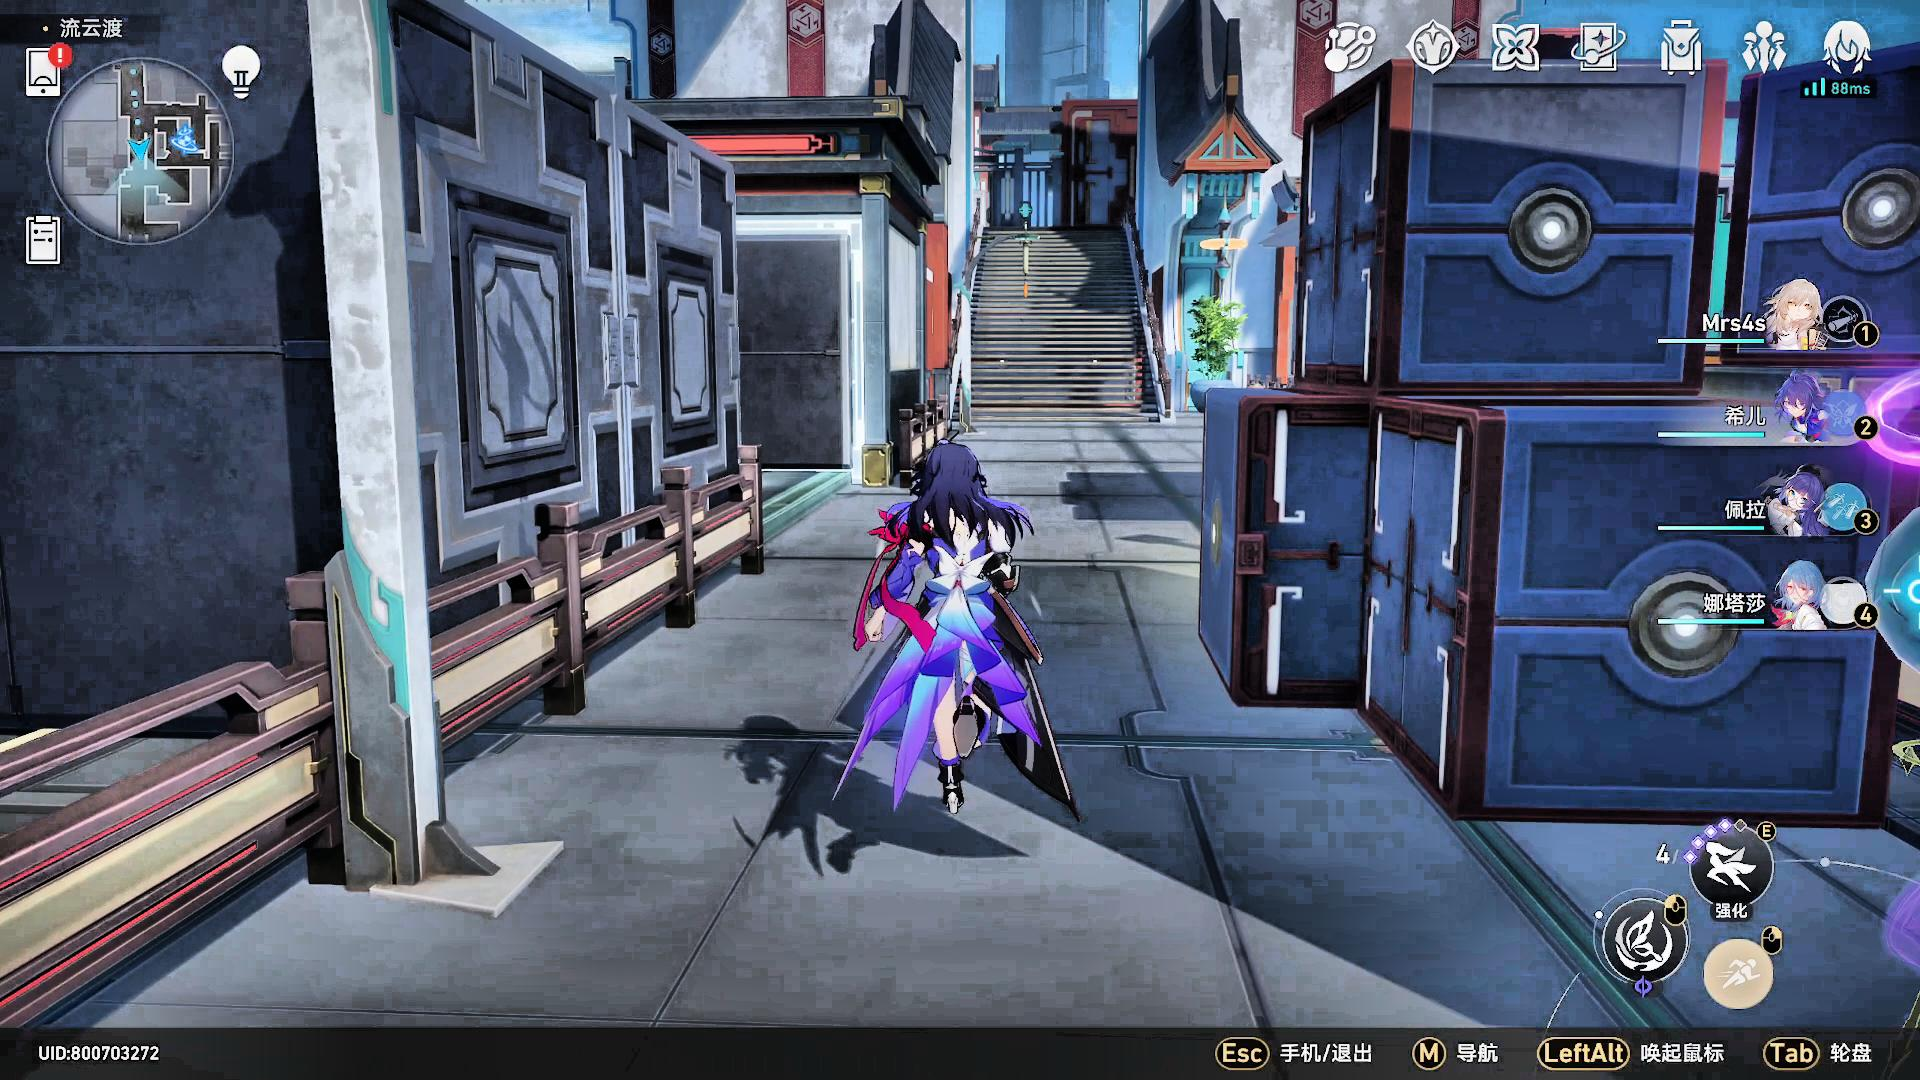Self: (824, 436, 1067, 840)
